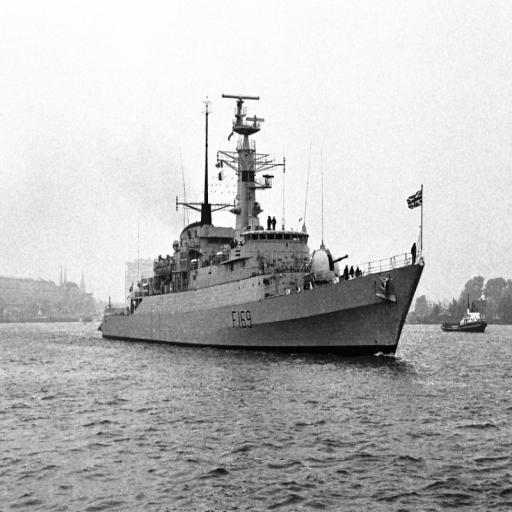Fragata: (98, 87, 429, 363)
